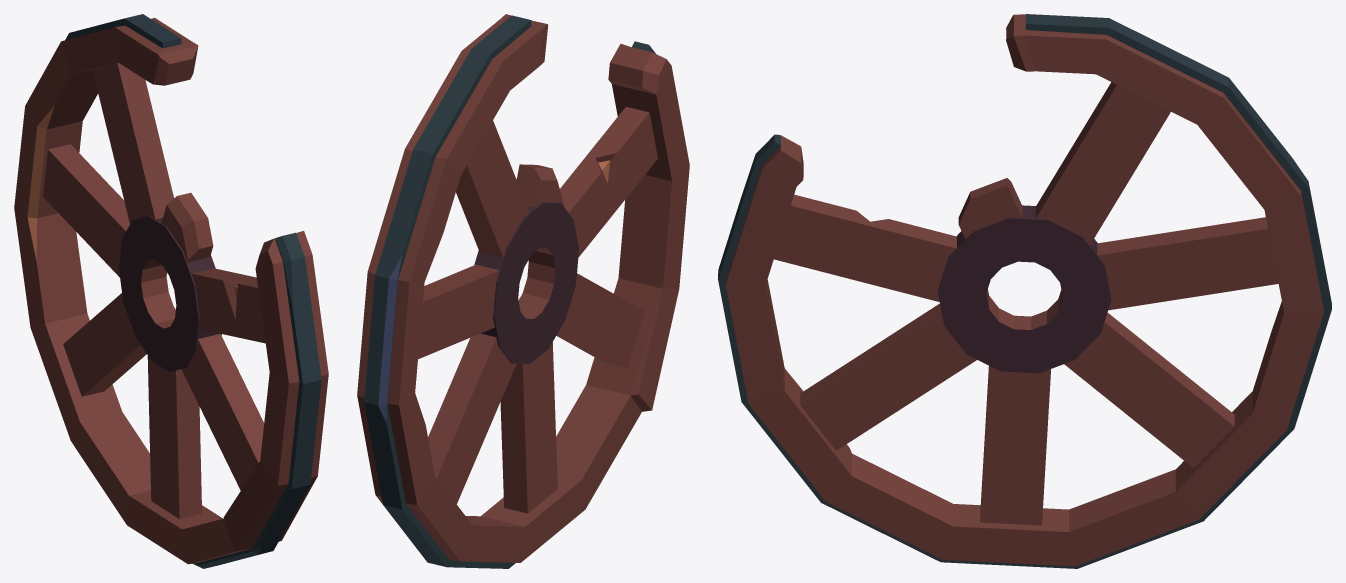
The model's file is Wheel_02.fbx.
3 renders of one model, left to right at view 1: azimuth 30°, elevation 25°; view 2: azimuth 150°, elevation 25°; view 3: azimuth 270°, elevation 25°, orthographic. The views are drawn at different scales.
Visible parts, largest first — view 1: Wheel_02; view 2: Wheel_02; view 3: Wheel_02.
Part boxes in pixels (x1=…): Wheel_02: x1=14, y1=14, x2=328, y2=568; Wheel_02: x1=357, y1=14, x2=689, y2=568; Wheel_02: x1=718, y1=14, x2=1331, y2=568.
Size of the model in its own units: 15.75 by 145 by 148.
